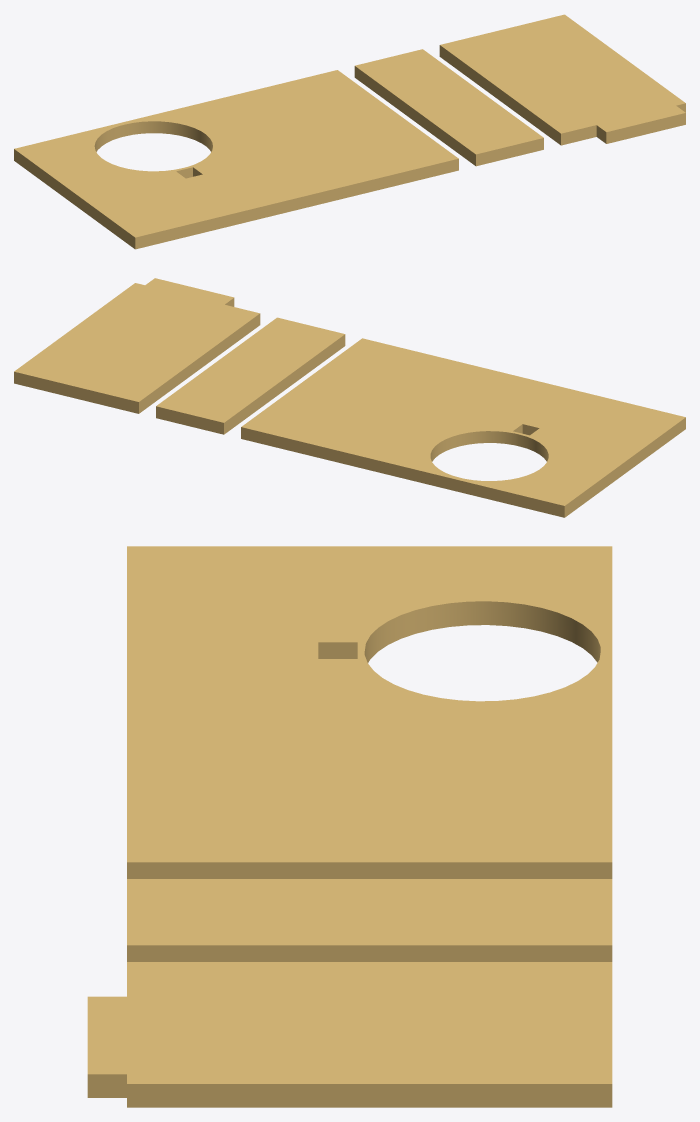
The model's file is Joglo_part_332.fbx.
3 views of the same model, one above another, from view 1: azimuth 30°, elevation 25°; view 2: azimuth 150°, elevation 25°; view 3: azimuth 270°, elevation 25° (orthographic). The views are drawn at different scales.
Visible parts, largest first — view 1: Mesh391_Paint___Golden_Ochre_0.001; view 2: Mesh391_Paint___Golden_Ochre_0.001; view 3: Mesh391_Paint___Golden_Ochre_0.001.
Boxes of the visible parts, left/top/right/bottom form: Mesh391_Paint___Golden_Ochre_0.001: left=14, top=14, right=685, bottom=249; Mesh391_Paint___Golden_Ochre_0.001: left=14, top=278, right=685, bottom=517; Mesh391_Paint___Golden_Ochre_0.001: left=87, top=546, right=612, bottom=1107.
Bounding box in the file's own units: 191 × 3.94 × 78.74.
